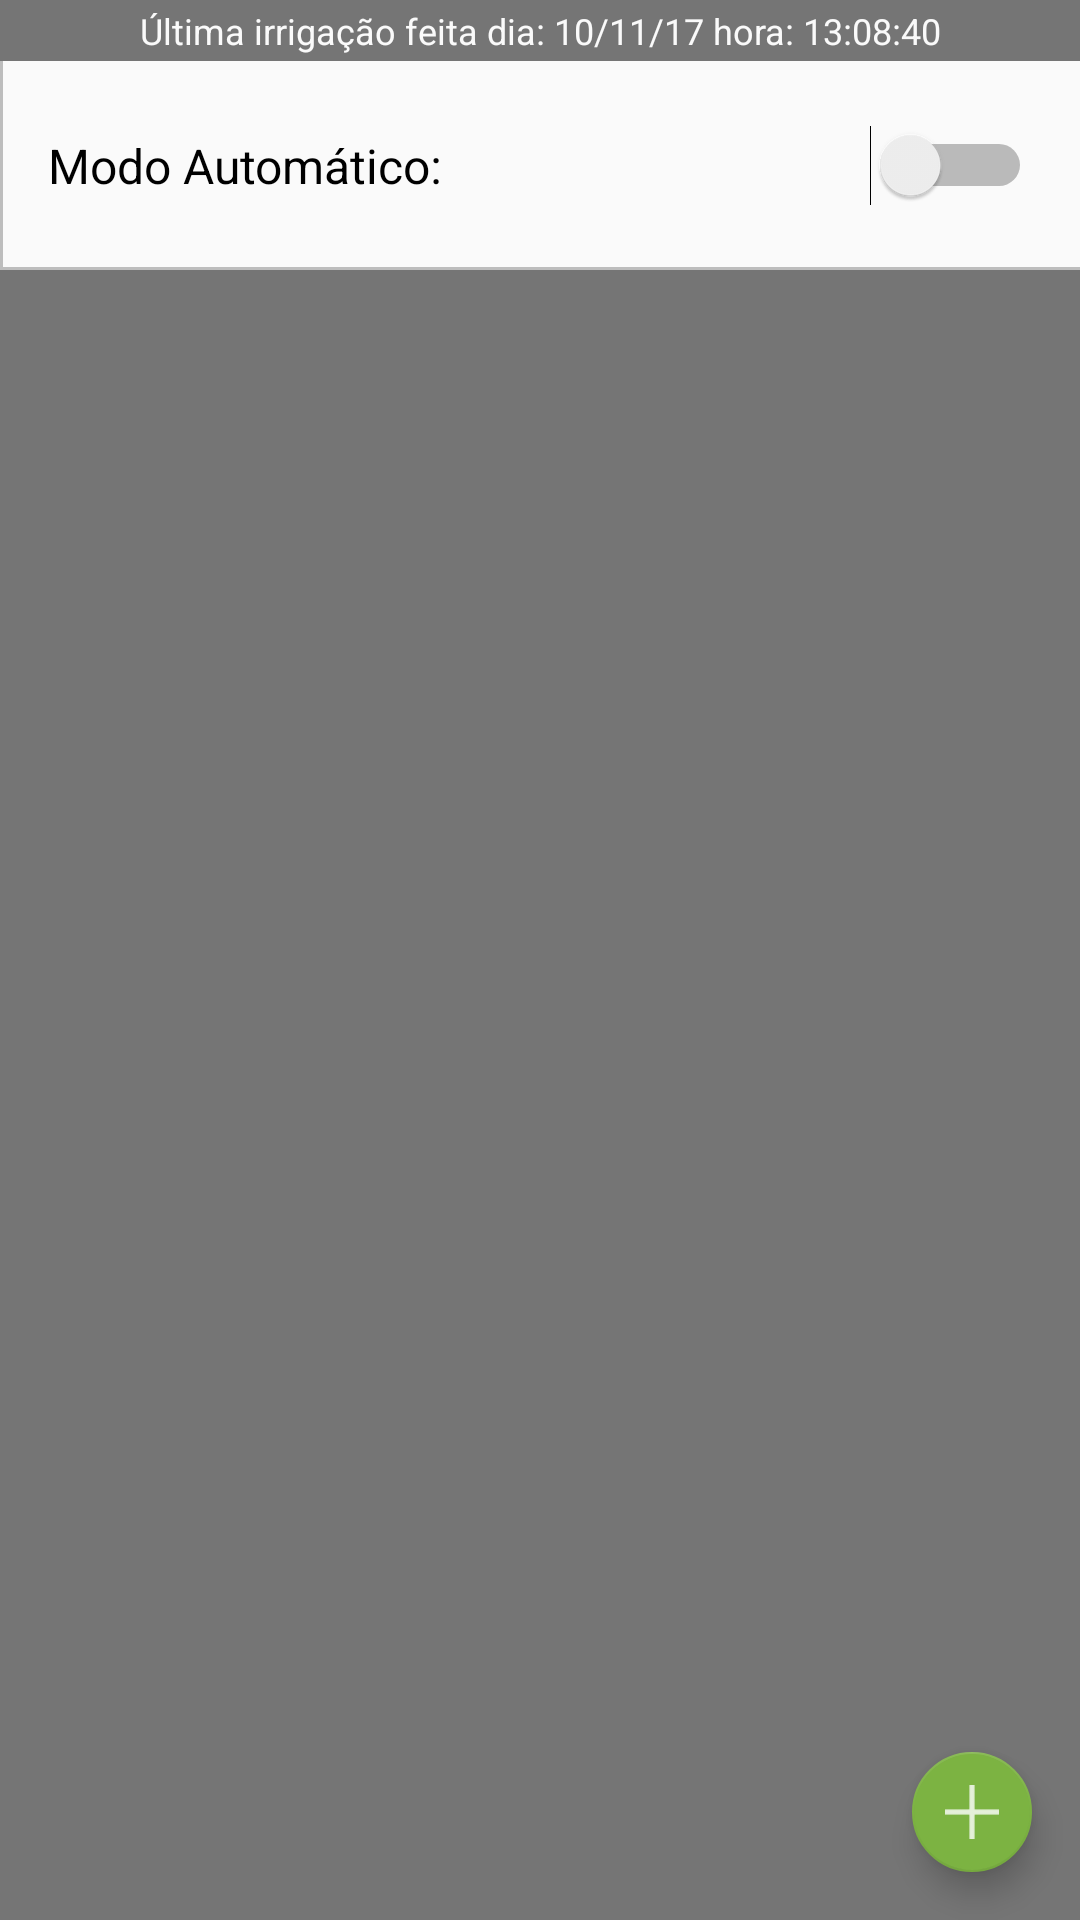

Where icons sit on this 1080 x 1920 app screen, as (x1=x1, y1=y1, x2=x2, y2=y2):
plus: (x1=912, y1=1752, x2=1032, y2=1872)
